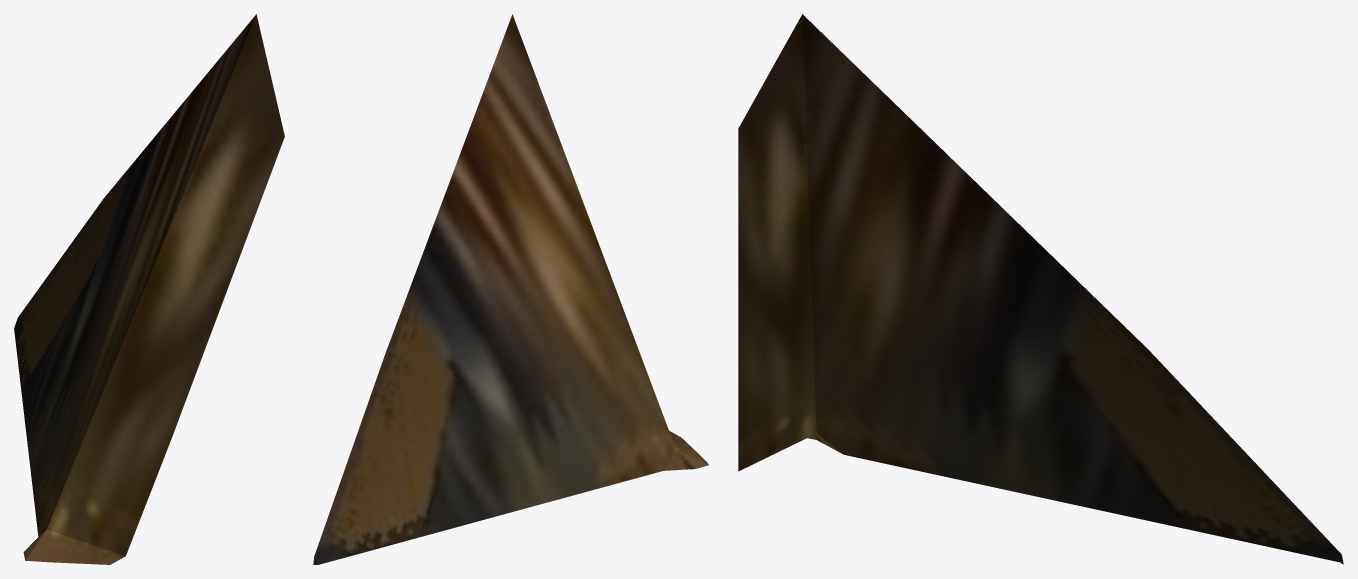
3 views of the same model, side by side, from view 1: azimuth 30°, elevation 25°; view 2: azimuth 150°, elevation 25°; view 3: azimuth 270°, elevation 25° (orthographic). The views are drawn at different scales.
Size of the model in its own units: 0.3484 by 0.6931 by 0.6903.
1 material, 1 textured.
